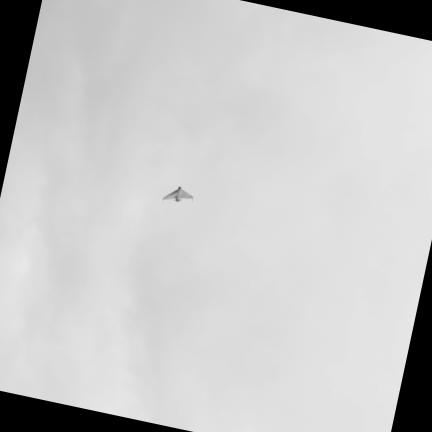Shahed: (162, 187, 192, 201)
